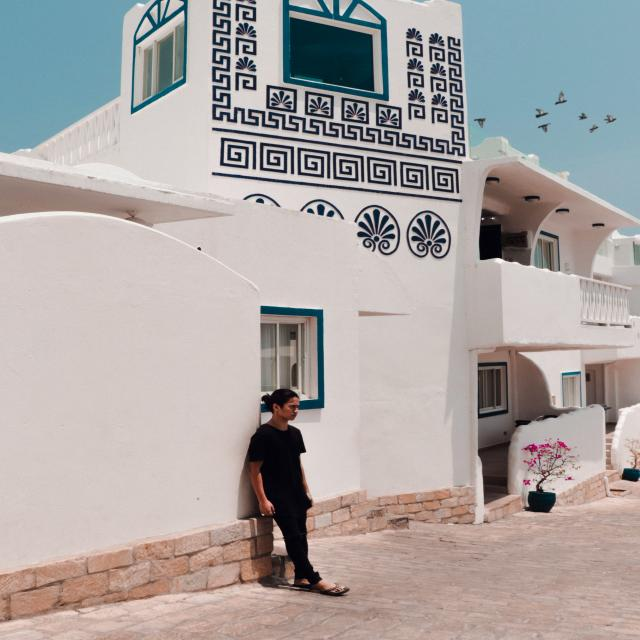adult: (247, 389, 339, 593)
